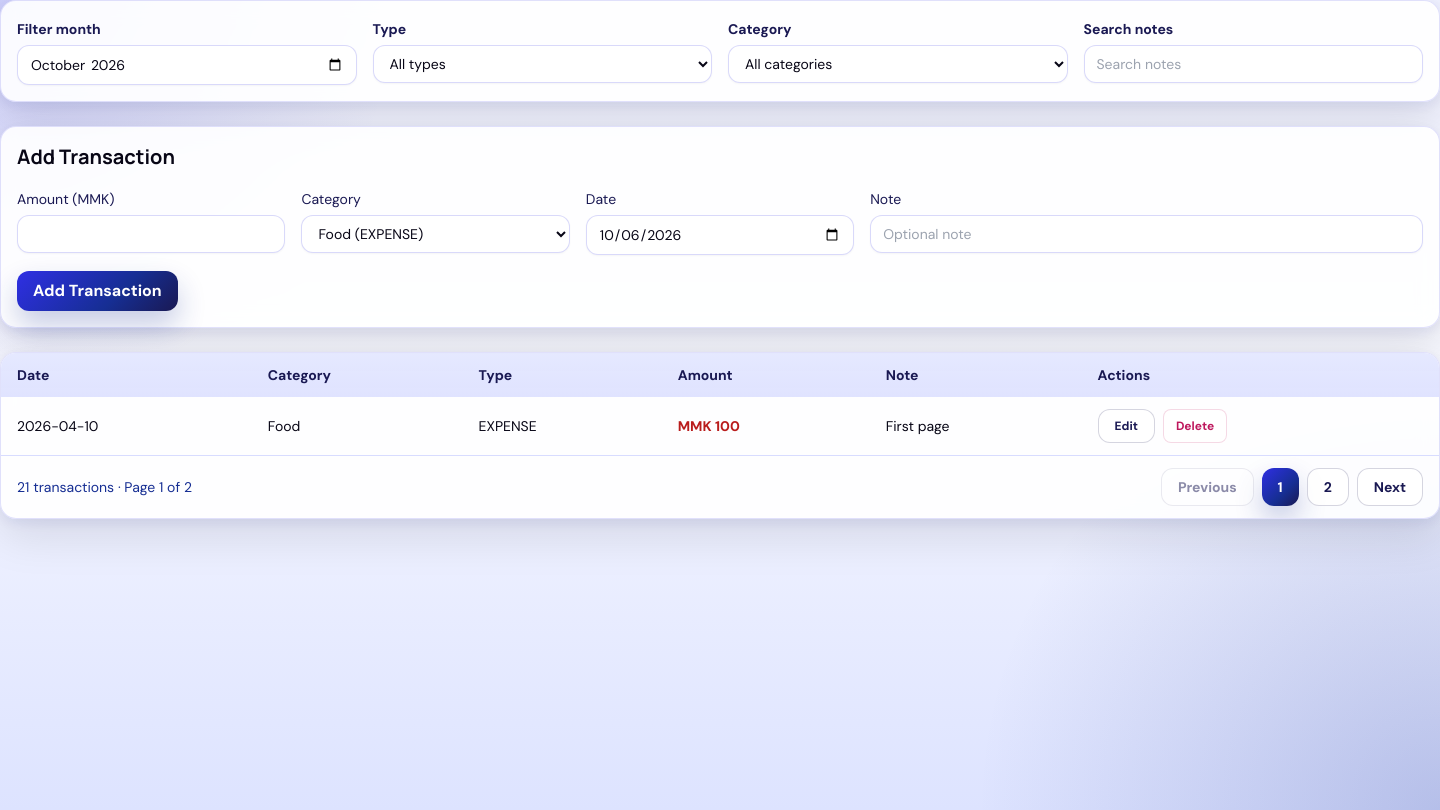
Scenario: TransactionsPage › navigates numbered pages and resets to page one when a filter changes
Expected: the text "First page" is shown, [870, 397, 1082, 455]
Click the button named "Page 2" at (1328, 487), box [1307, 468, 1349, 506]
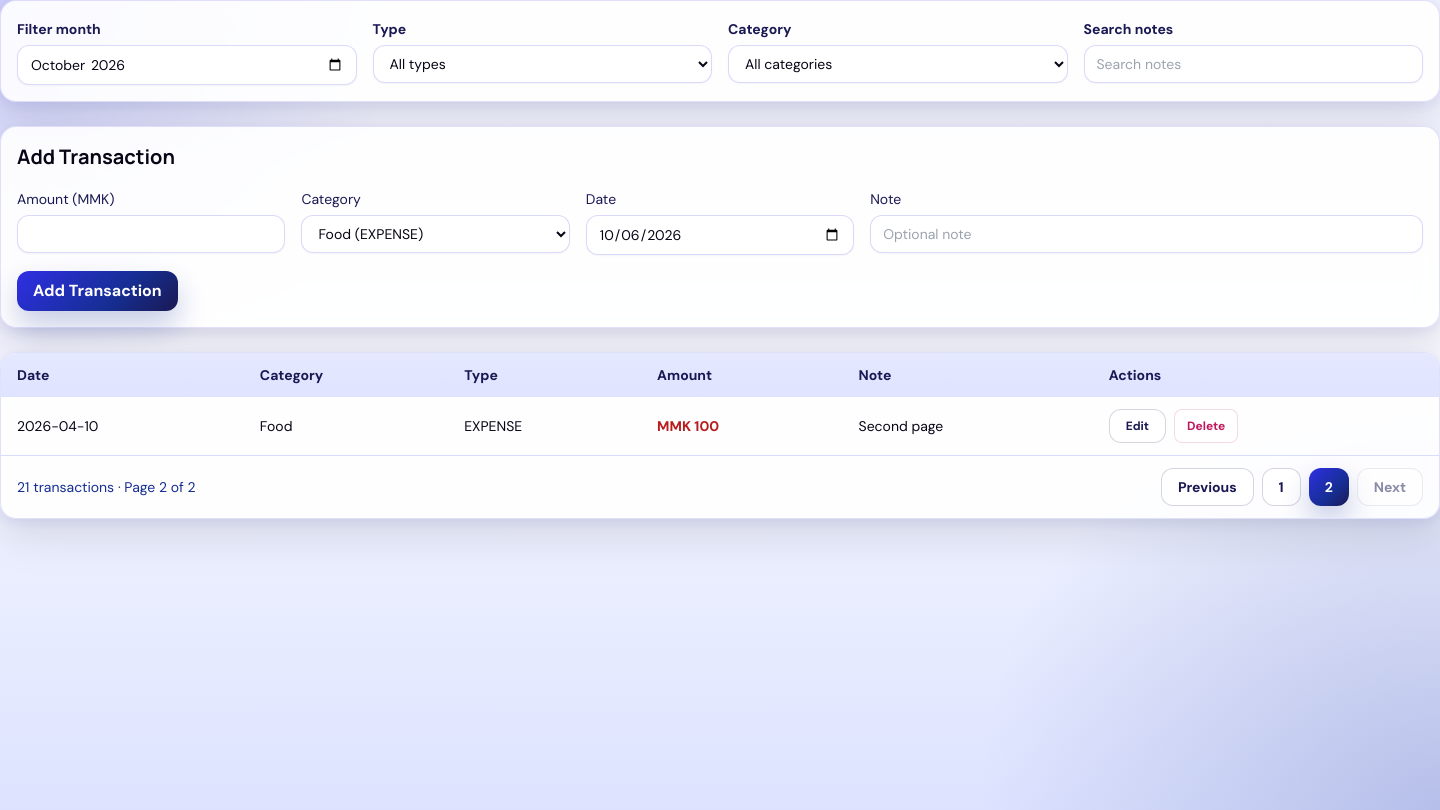
Expected: the text "Second page" is shown, [842, 397, 1093, 455]
Select "Expense" in the dropdown labelled "Type" at (542, 64), box [372, 45, 712, 83]
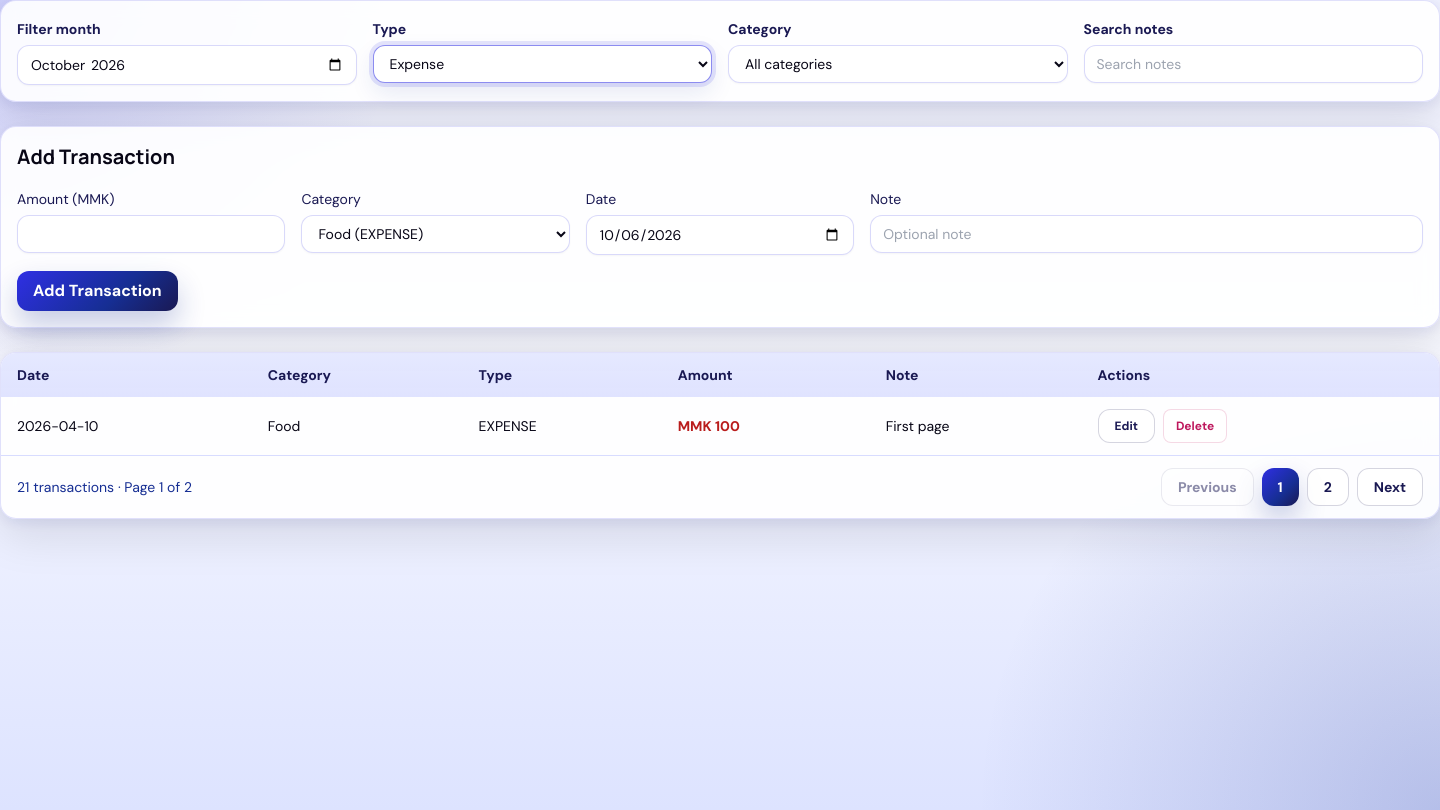
Expected: the text "First page" is shown, [870, 397, 1082, 455]
